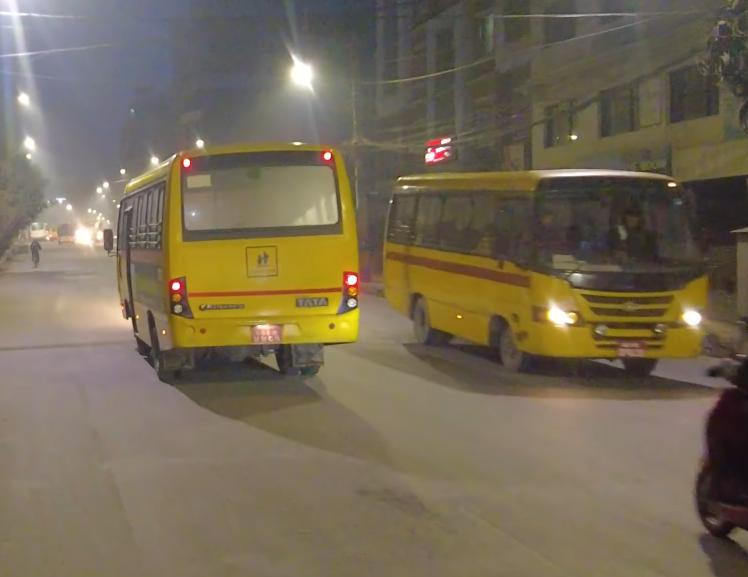school_bus: (375, 167, 713, 382), (102, 137, 365, 392)
